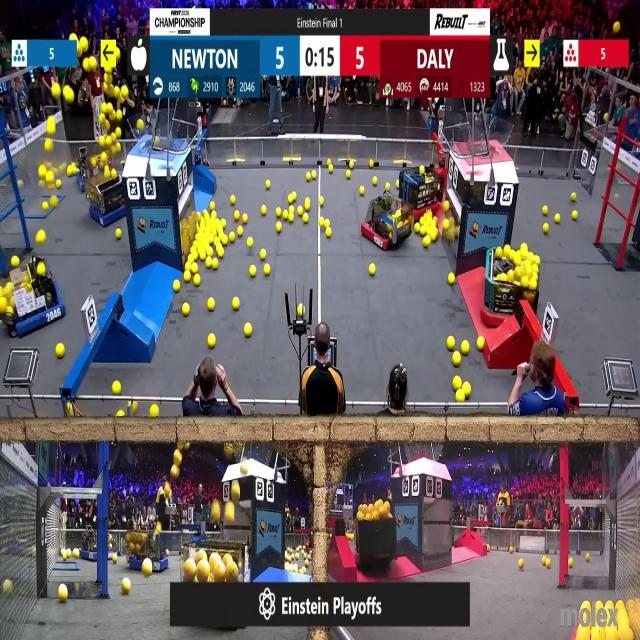ball_airborne: (224, 502, 235, 522), (64, 88, 75, 106), (45, 119, 55, 138), (232, 482, 241, 502), (212, 500, 220, 521), (78, 36, 87, 54), (173, 450, 182, 465), (53, 86, 62, 100), (172, 464, 180, 479), (44, 139, 52, 152), (38, 167, 46, 180), (83, 58, 90, 72), (120, 87, 128, 99), (165, 485, 173, 497), (100, 103, 108, 114), (105, 102, 112, 114), (91, 58, 98, 70), (37, 230, 43, 244), (113, 87, 119, 100), (115, 129, 122, 140), (103, 85, 110, 96), (242, 462, 248, 474), (615, 22, 621, 34), (164, 487, 170, 499), (101, 151, 108, 161), (115, 109, 122, 119), (100, 136, 106, 147), (138, 118, 144, 128), (105, 136, 111, 146), (155, 523, 161, 533), (104, 74, 110, 83), (101, 113, 106, 123), (115, 143, 120, 153), (161, 486, 166, 496), (69, 34, 76, 41), (604, 112, 608, 121)
ball_ground: (59, 585, 69, 603), (121, 579, 130, 595), (142, 560, 151, 576), (112, 381, 121, 396), (462, 383, 471, 398), (57, 344, 66, 358), (208, 335, 216, 349), (181, 304, 189, 317), (448, 338, 456, 351), (454, 377, 462, 390), (244, 323, 252, 336), (208, 298, 215, 312), (461, 342, 468, 356), (478, 338, 485, 352), (150, 406, 158, 418), (216, 246, 224, 258), (192, 275, 200, 287), (233, 298, 240, 311), (244, 325, 250, 340), (456, 390, 464, 401), (288, 191, 296, 202), (449, 273, 456, 285), (429, 230, 436, 242), (186, 302, 193, 314), (173, 280, 180, 292), (183, 272, 191, 282), (265, 266, 272, 277), (452, 352, 459, 363), (207, 257, 214, 268), (368, 265, 374, 277), (250, 266, 256, 278), (213, 258, 219, 270), (260, 248, 266, 260), (207, 247, 214, 257), (423, 238, 430, 248), (115, 230, 122, 240), (199, 250, 206, 260), (230, 234, 237, 244), (445, 201, 451, 212), (259, 207, 266, 216), (247, 238, 253, 248), (304, 213, 310, 223), (276, 208, 282, 218), (277, 222, 283, 232), (415, 224, 421, 234), (445, 218, 451, 228), (184, 263, 191, 271), (584, 601, 591, 609), (210, 202, 216, 211), (325, 229, 331, 238), (191, 264, 197, 273), (296, 207, 302, 216), (541, 207, 547, 216), (222, 236, 228, 245), (235, 211, 241, 220), (542, 222, 547, 232), (544, 558, 549, 568), (319, 217, 324, 227), (306, 199, 310, 211), (288, 213, 293, 222), (571, 191, 576, 200), (556, 214, 561, 223), (359, 186, 364, 195), (371, 177, 376, 186), (74, 550, 79, 559), (117, 411, 123, 418), (288, 207, 294, 214), (568, 558, 572, 568), (244, 213, 248, 223), (319, 198, 324, 206), (312, 172, 317, 180), (368, 161, 373, 169), (232, 197, 237, 205), (386, 182, 390, 191), (520, 560, 524, 569), (307, 172, 311, 181), (284, 210, 288, 219), (204, 211, 210, 217), (187, 254, 192, 261), (267, 180, 271, 188), (347, 171, 351, 179), (373, 179, 377, 187), (330, 229, 334, 236), (328, 167, 332, 174), (587, 554, 590, 562), (279, 224, 282, 232), (231, 198, 234, 204), (294, 567, 296, 571)
goal: (460, 116, 516, 158), (133, 117, 189, 152)
robot_blue: (1, 256, 66, 336), (82, 162, 128, 227), (123, 529, 171, 572)
robot_red: (482, 239, 540, 329), (354, 493, 397, 572), (363, 190, 414, 251), (398, 164, 443, 217)
